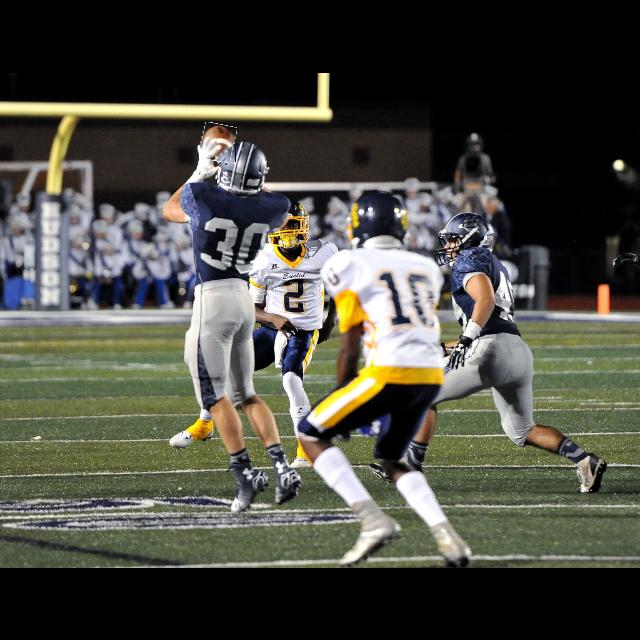Football: (200, 124, 236, 162)
